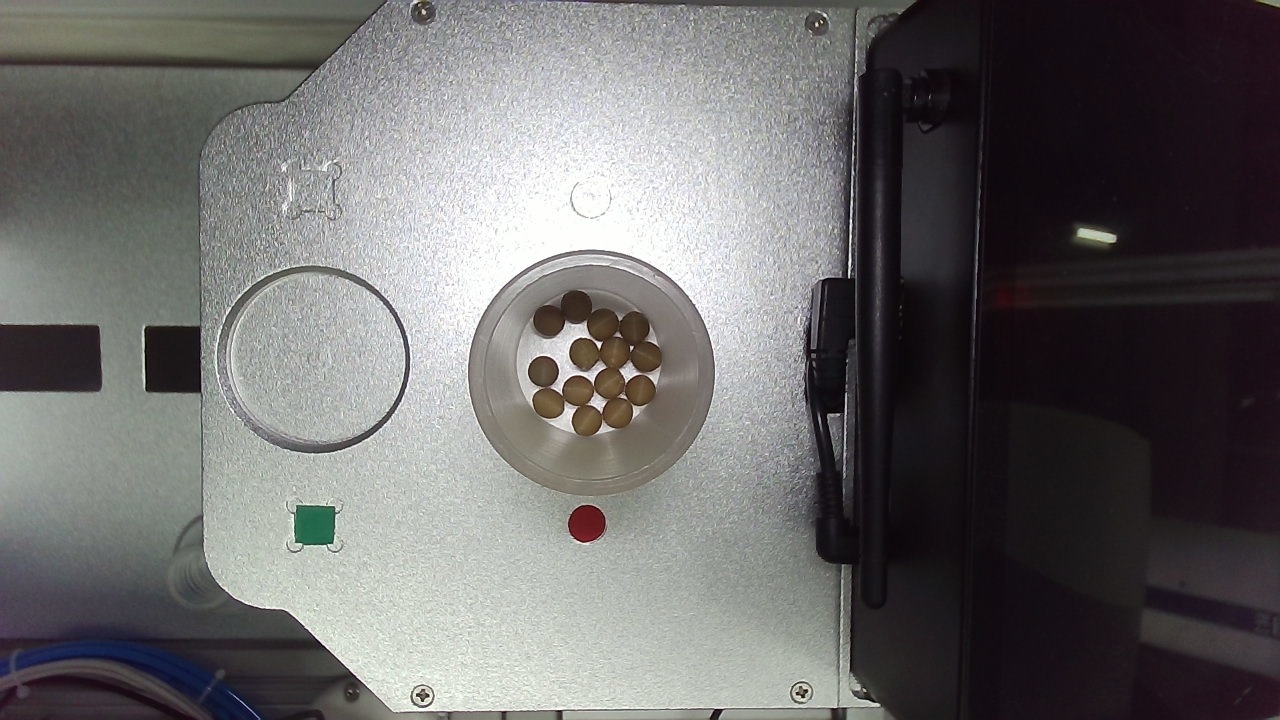XLabel: (745, 308, 779, 341)
YLabel: (526, 311, 561, 346)
none: (465, 382, 625, 544)
transparenexcept: (682, 380, 955, 590)
